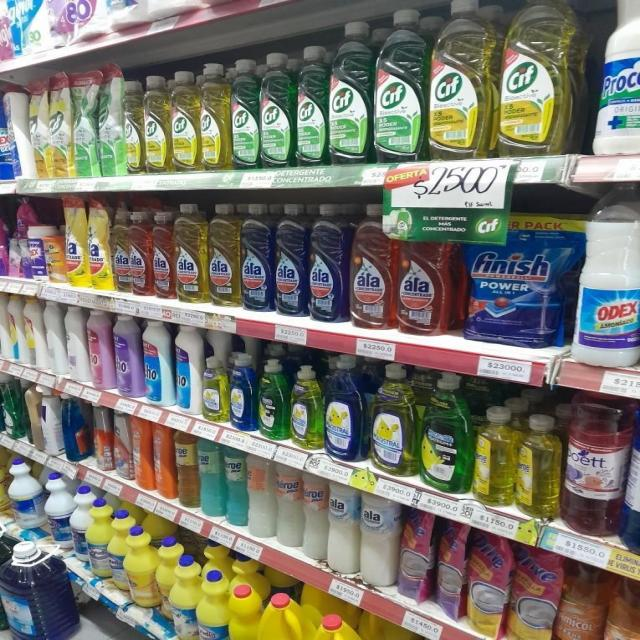ala_conc_amarillo: (208, 202, 240, 308), (175, 203, 207, 304)
ala_conc_azul: (308, 203, 348, 323), (274, 204, 307, 318), (241, 203, 274, 312)
ala_conc_rojo: (397, 232, 454, 336), (350, 203, 396, 330), (152, 209, 174, 300), (130, 210, 152, 296)
ala_crem_blanco: (360, 491, 400, 587), (328, 480, 358, 575)
ala_sachet_amarillo: (89, 197, 111, 291), (65, 195, 87, 288), (0, 82, 17, 180), (112, 205, 130, 293)
cif_conc_bot_amarilla: (499, 0, 577, 156), (429, 0, 493, 160), (200, 62, 230, 171), (171, 69, 198, 173), (144, 74, 169, 174), (124, 76, 143, 175)
cif_conc_botella_verde: (373, 8, 426, 162), (329, 20, 371, 165), (260, 51, 294, 169), (295, 45, 327, 166), (231, 57, 259, 170)
cif_conc_sachet_amarillo: (48, 71, 72, 178)
heroe: (276, 462, 302, 550), (303, 471, 328, 562), (199, 438, 223, 518), (225, 444, 247, 526), (175, 431, 198, 508)
magistral_con_amarillo: (369, 363, 417, 477), (474, 405, 516, 506), (291, 364, 323, 451), (202, 353, 228, 423), (0, 457, 8, 516)
magistral_con_azul: (325, 354, 364, 462), (230, 352, 256, 431)
